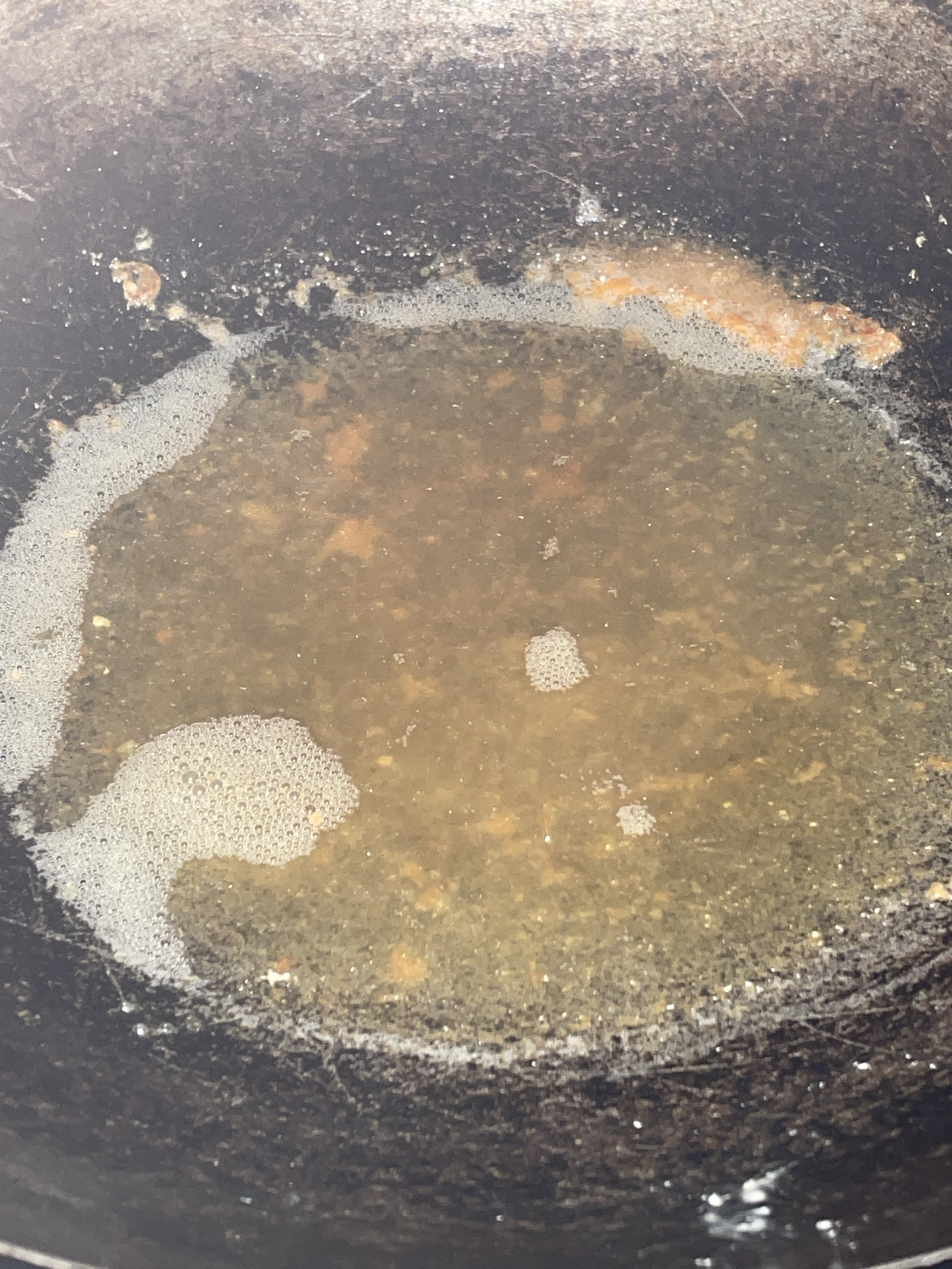non-reusable: (0, 286, 952, 1054)
